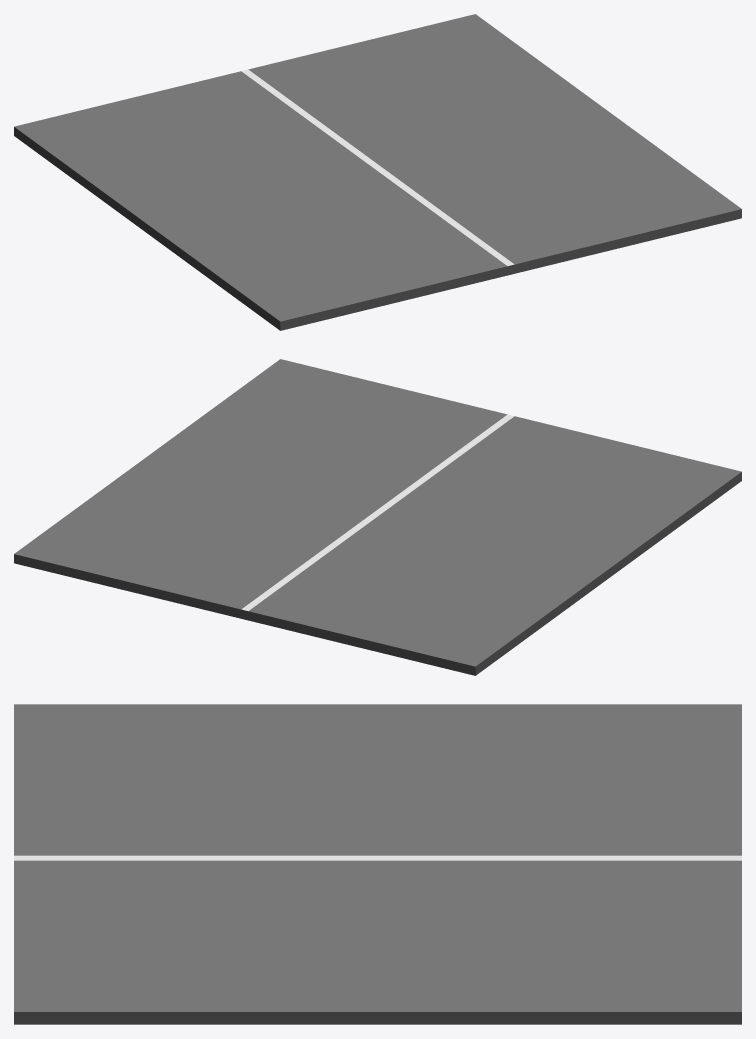
The model's file is road_straight_H.fbx.
The picture shows the model from 3 angles, top to bottom: view 1: azimuth 30°, elevation 25°; view 2: azimuth 150°, elevation 25°; view 3: azimuth 270°, elevation 25°; orthographic projection. The views are drawn at different scales.
Visible parts, largest first — view 1: Cube.055; view 2: Cube.055; view 3: Cube.055.
Boxes of the visible parts, box(x1,y1,x2,y2) form: Cube.055: box(14, 14, 741, 330); Cube.055: box(14, 359, 741, 675); Cube.055: box(14, 704, 741, 1024).
Size of the model in its own units: 26 by 26 by 0.5.
Materials: 1 (1 with a texture image).
